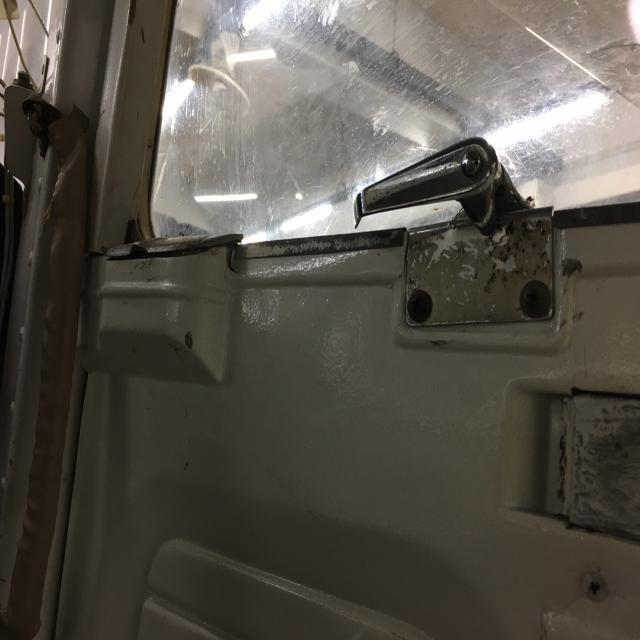Crack: (514, 250, 594, 380), (120, 328, 200, 369), (222, 236, 247, 322)
